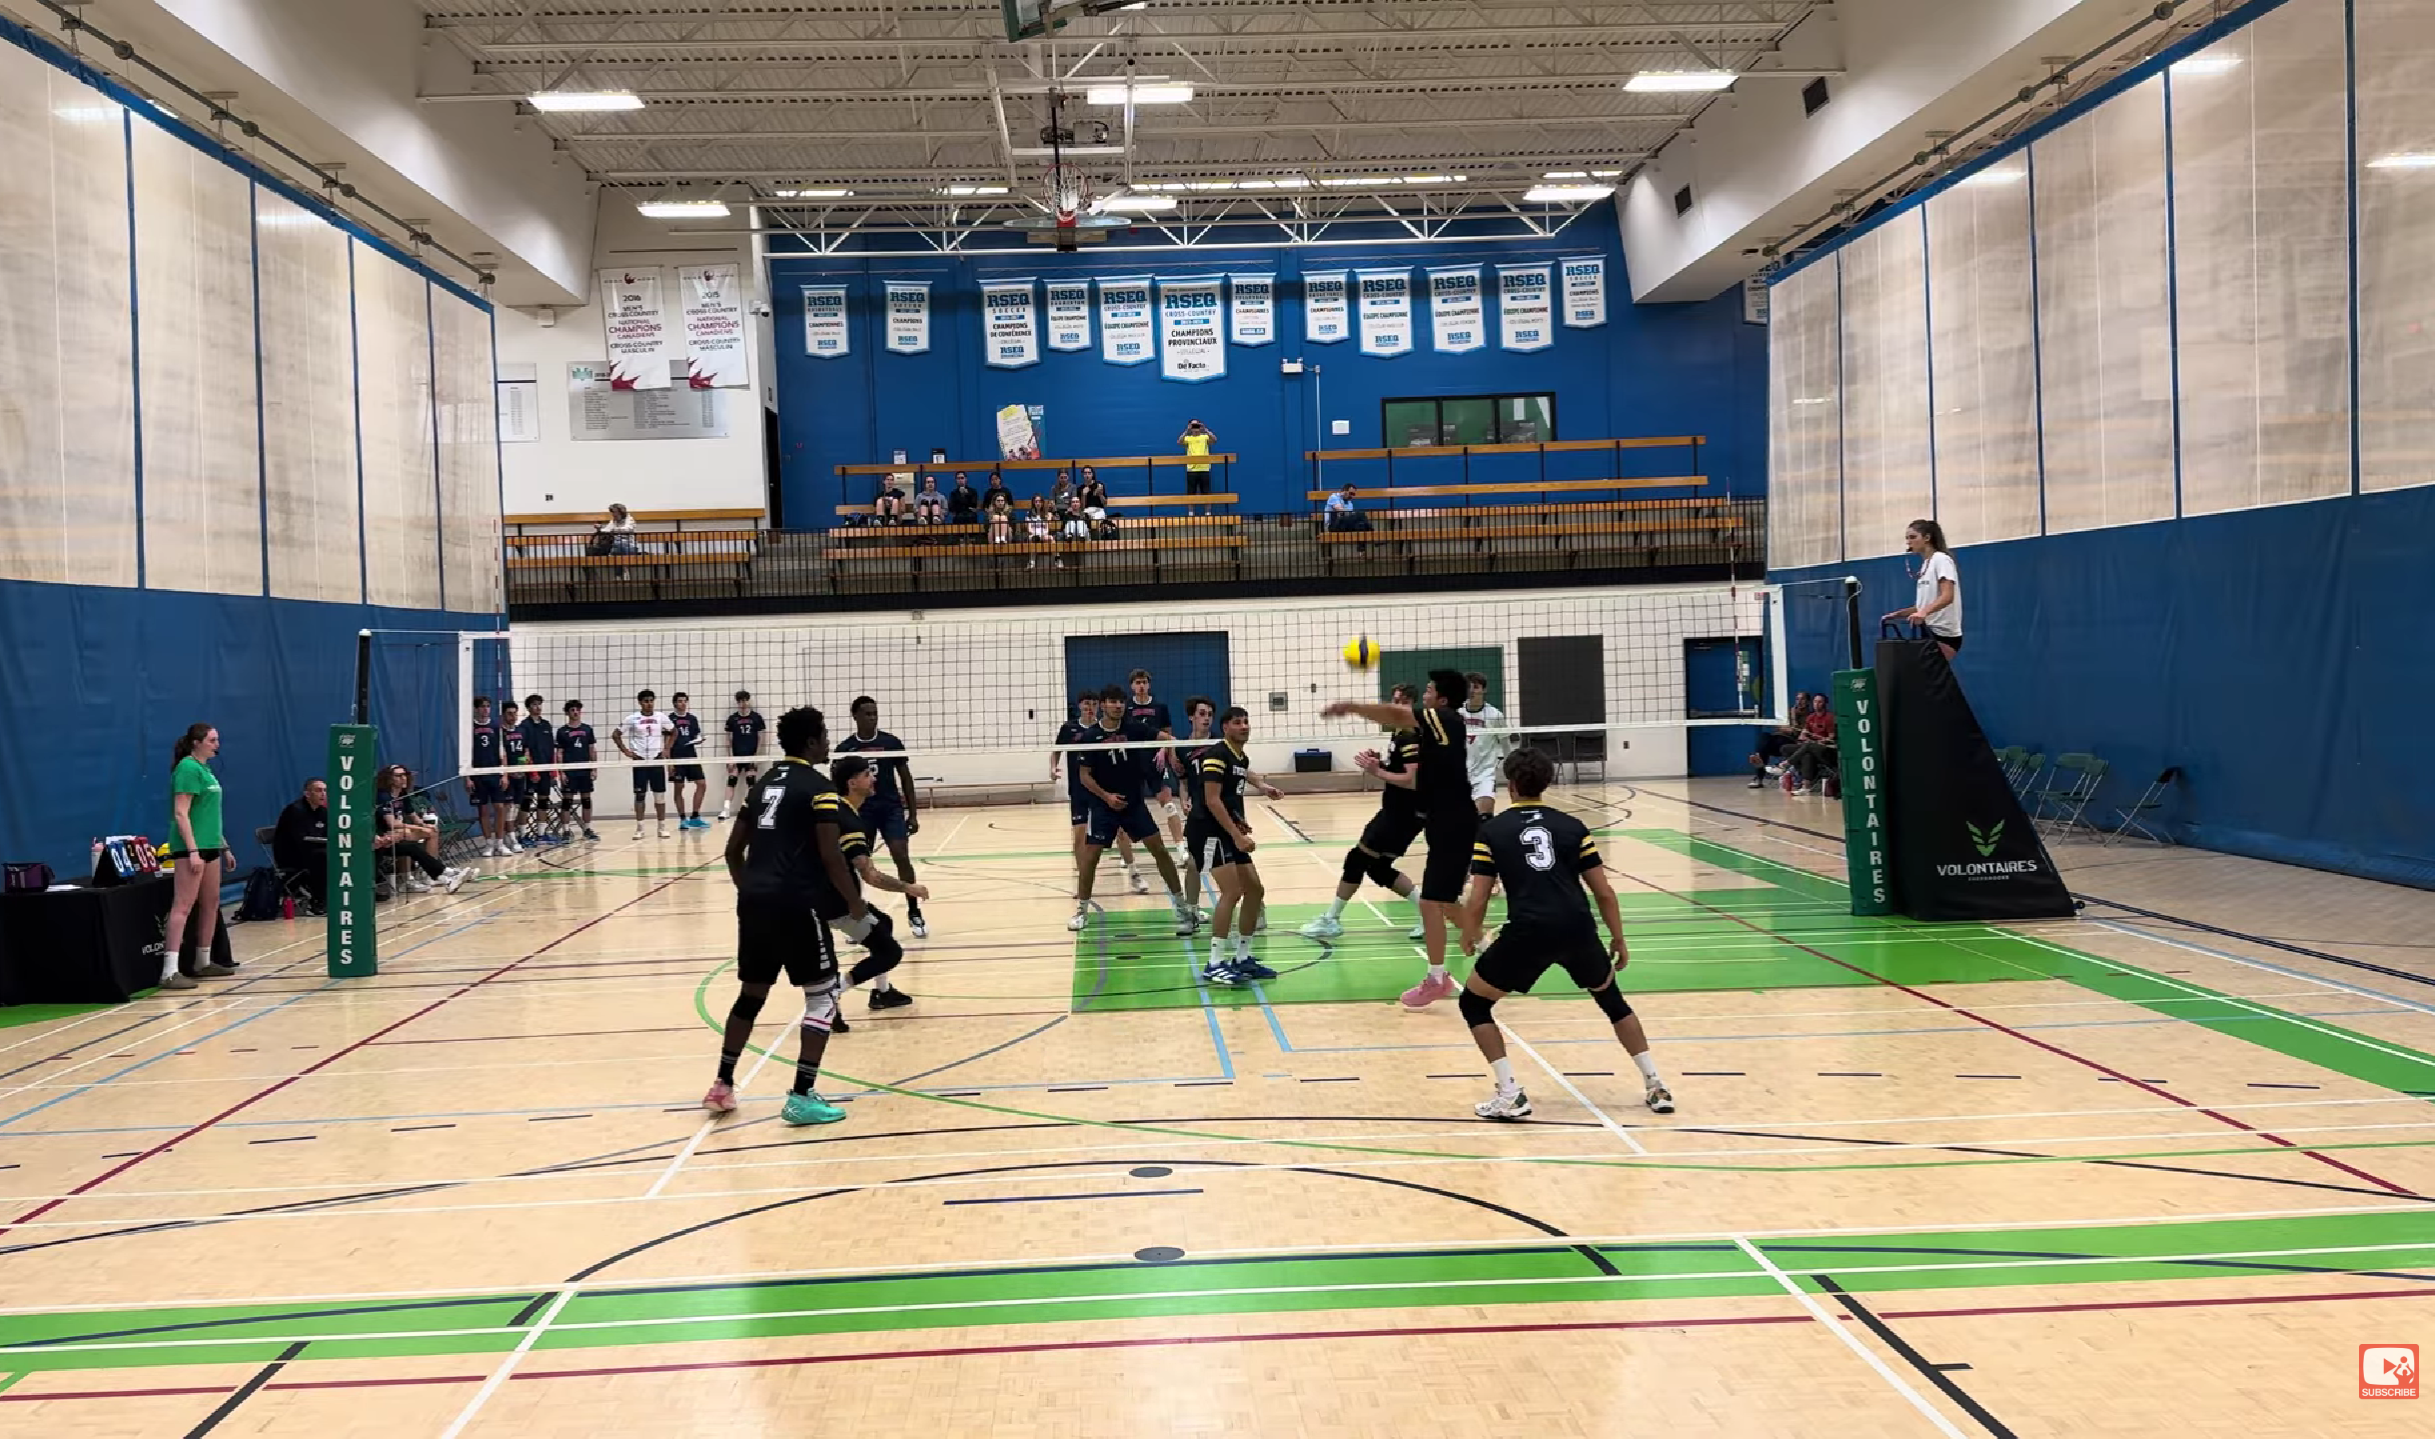Ball: (1341, 634, 1382, 673)
